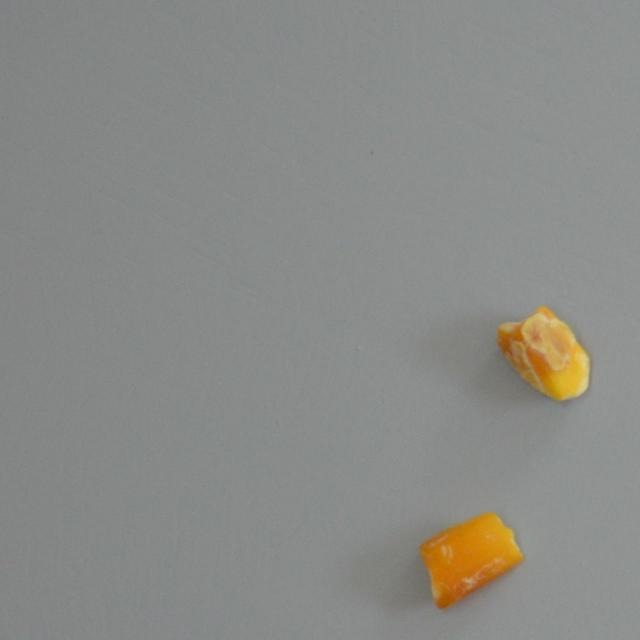dañado: (417, 501, 522, 611), (493, 300, 596, 410)
